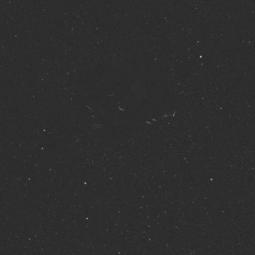proba_3_ocs: (75, 41, 185, 139)
